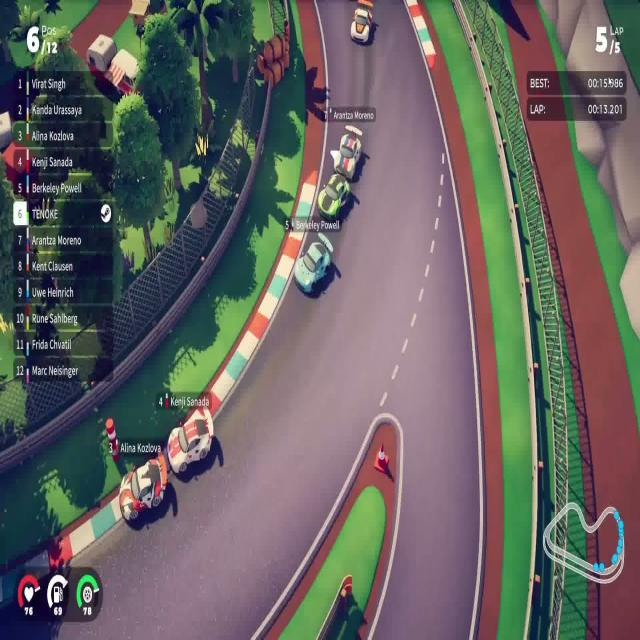car: (118, 450, 168, 525), (166, 405, 214, 475), (294, 230, 334, 294), (329, 124, 363, 181), (317, 172, 351, 223)
